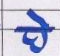e_matra: (27, 11, 51, 27)
